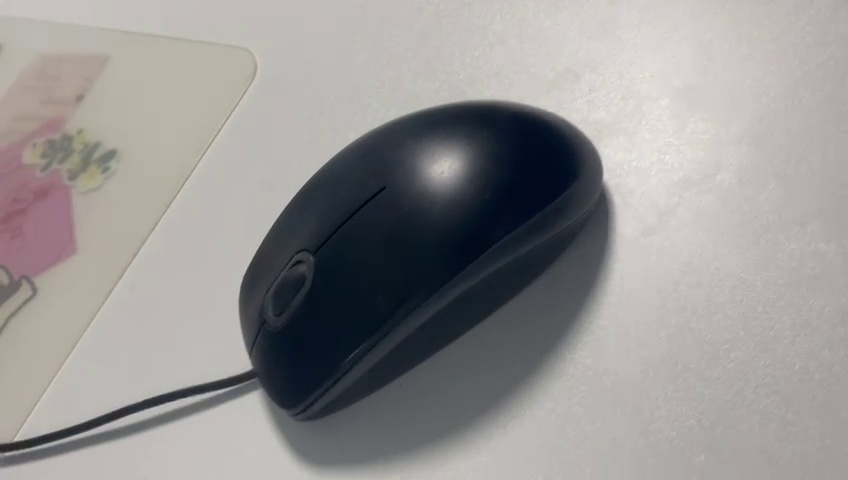objeto: (208, 89, 620, 415)
